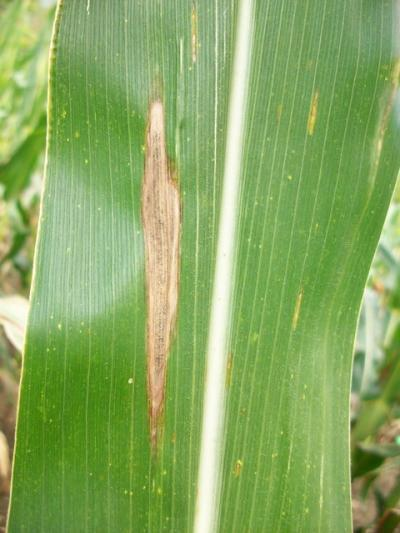Corn_Blight: (132, 46, 196, 481)
